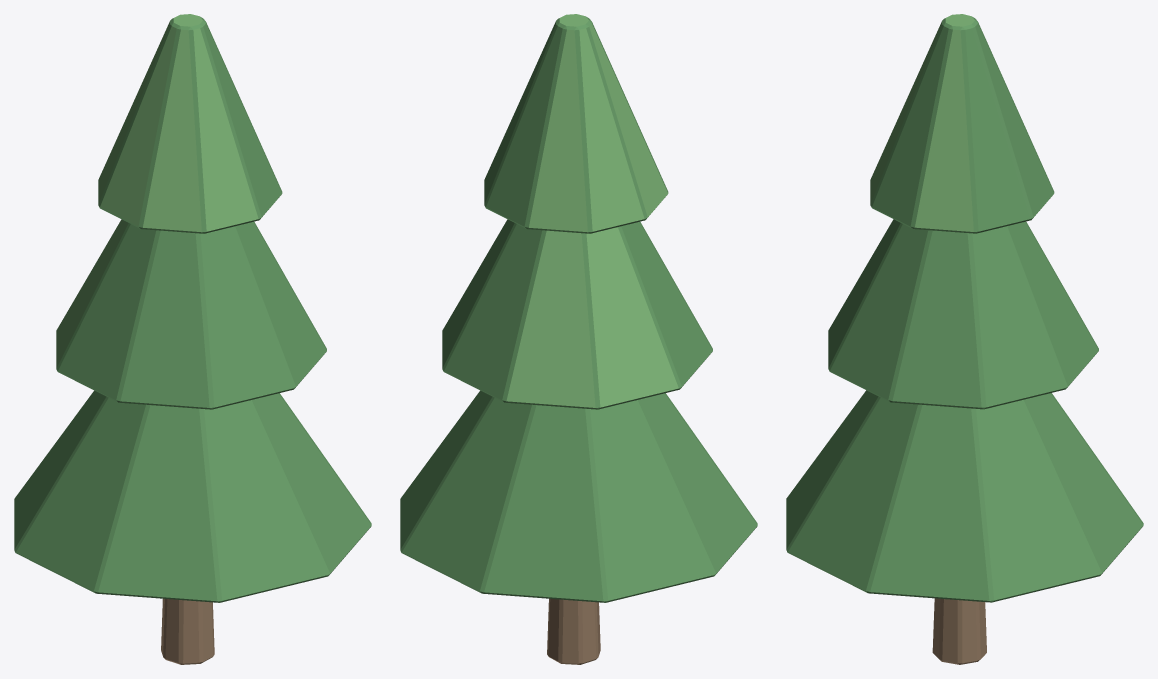
File: 植被_针叶树_01.fbx
3 renders of one model, left to right at view 1: azimuth 30°, elevation 25°; view 2: azimuth 150°, elevation 25°; view 3: azimuth 270°, elevation 25°, orthographic.
Visible parts, largest first — view 1: 树冠.005, 树干.005; view 2: 树冠.005, 树干.005; view 3: 树冠.005, 树干.005.
Boxes of the visible parts, left/top/right/bottom form: 树冠.005: left=14, top=14, right=371, bottom=602; 树干.005: left=161, top=598, right=214, bottom=664; 树冠.005: left=400, top=14, right=757, bottom=602; 树干.005: left=547, top=598, right=600, bottom=664; 树冠.005: left=786, top=14, right=1143, bottom=602; 树干.005: left=932, top=598, right=986, bottom=664.
Bounding box in the file's own units: 283 × 545 × 278.
